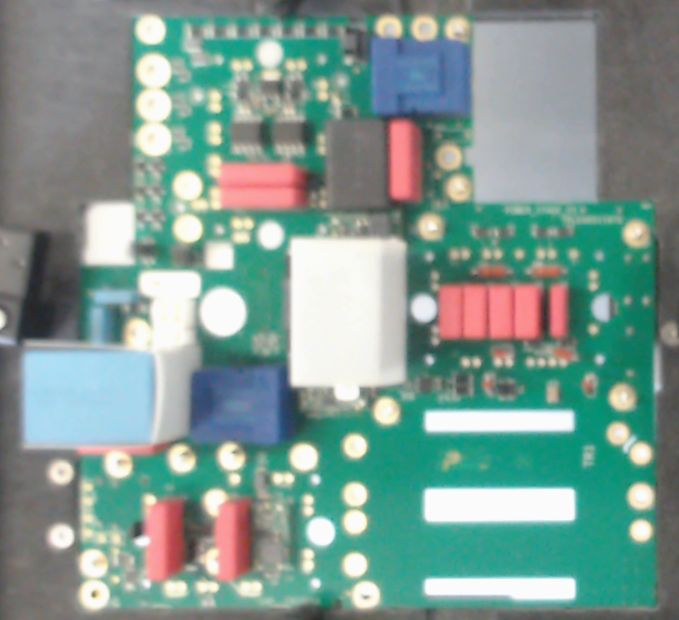comp1: (368, 37, 473, 120), (190, 366, 292, 447)
comp2: (387, 119, 422, 205), (146, 499, 183, 579), (216, 498, 252, 579), (219, 184, 312, 210), (218, 161, 307, 186), (485, 283, 516, 343), (514, 283, 541, 342), (462, 282, 488, 341), (439, 284, 463, 340), (549, 284, 569, 341)
comp3: (326, 119, 388, 210)
comp4: (19, 337, 202, 449), (288, 236, 408, 388)
